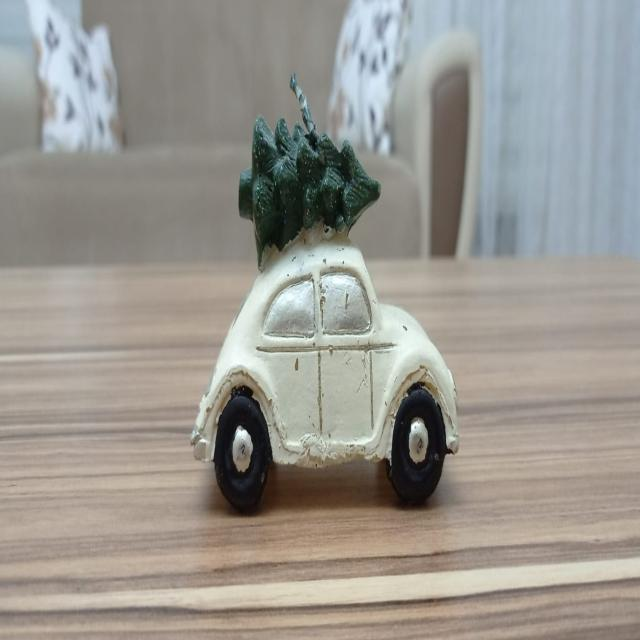car: (180, 239, 462, 505)
